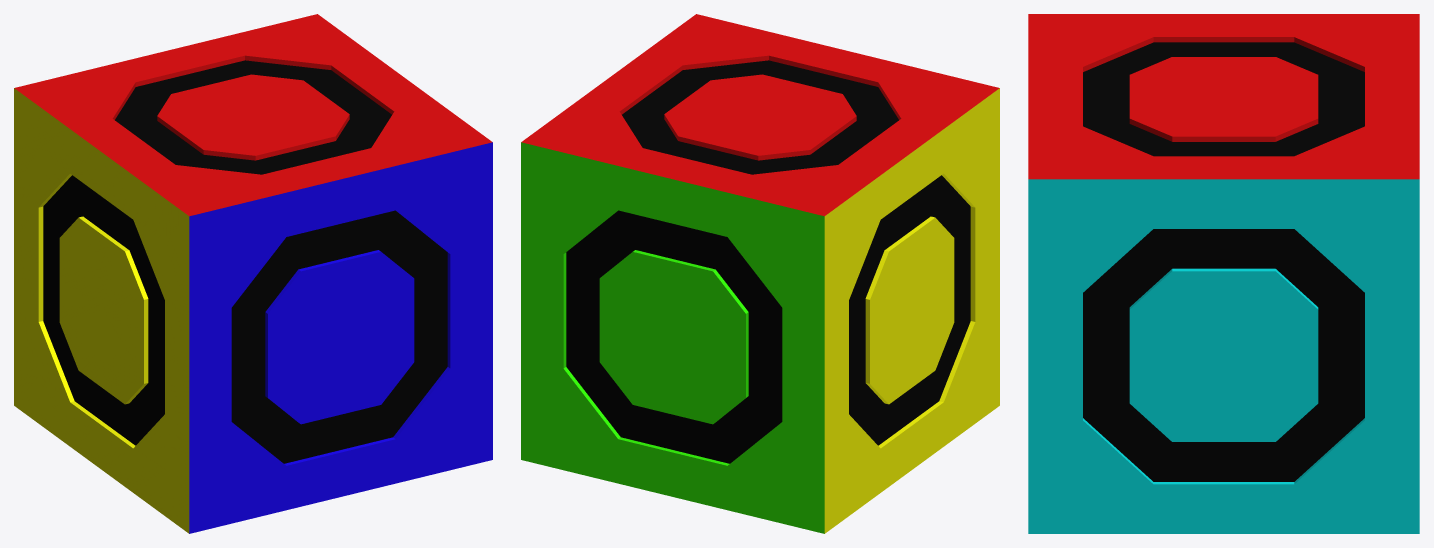
Rendered from cubeC.glb.
3 views of the same model, side by side, from view 1: azimuth 30°, elevation 25°; view 2: azimuth 150°, elevation 25°; view 3: azimuth 270°, elevation 25° (orthographic). The views are drawn at different scales.
Visible parts, largest first — view 1: CubeCircle; view 2: CubeCircle; view 3: CubeCircle.
Boxes of the visible parts, x1,y1,x2,y2 form: CubeCircle: [14, 14, 492, 533]; CubeCircle: [521, 14, 999, 533]; CubeCircle: [1028, 14, 1419, 533].
Size of the model in its own units: 1 by 1 by 1.
